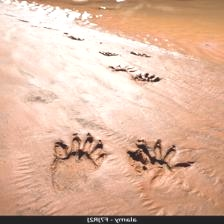raccoon: (43, 132, 111, 194), (126, 141, 196, 186)
